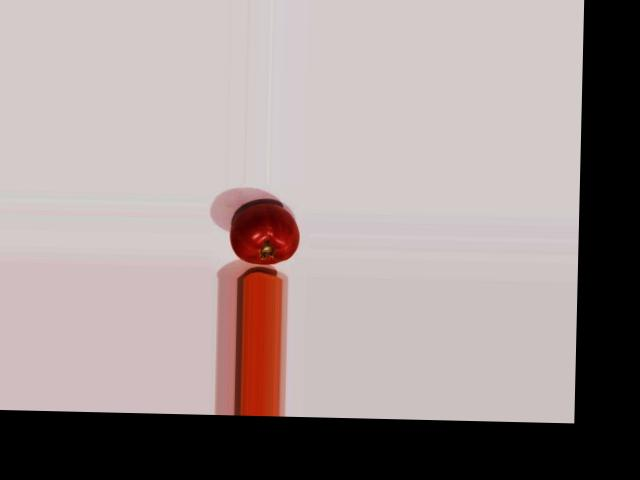tomato: (230, 203, 300, 264)
